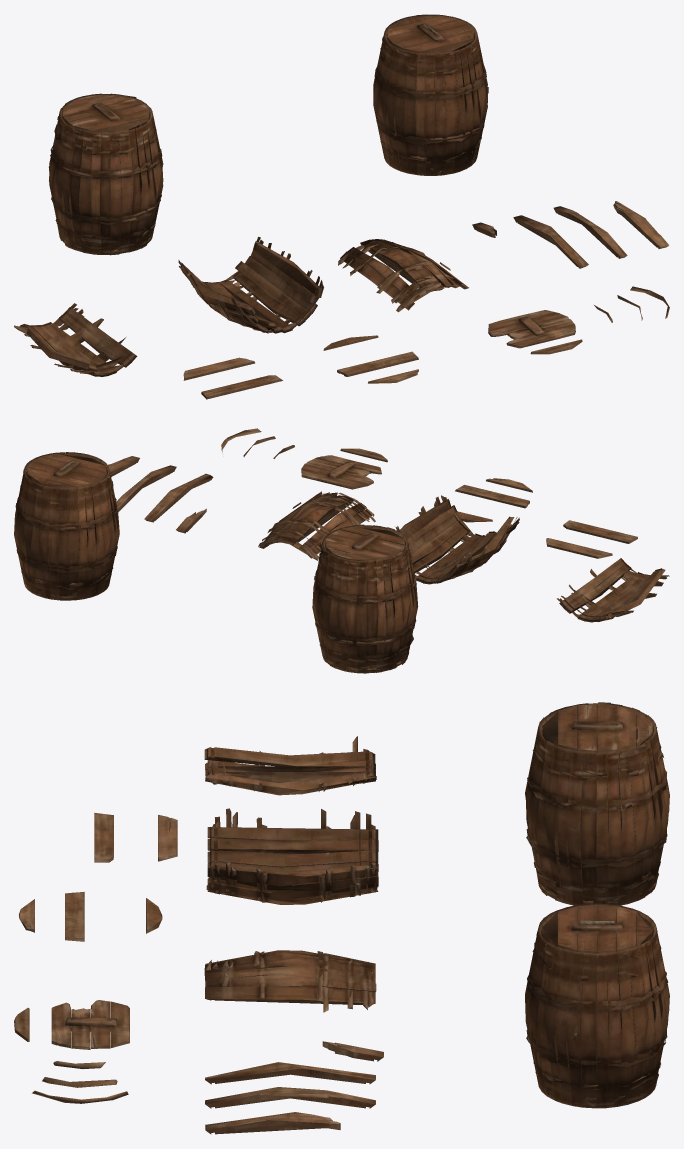
File: wooden_barrels_01.glb
The picture shows the model from 3 angles, top to bottom: view 1: azimuth 30°, elevation 25°; view 2: azimuth 150°, elevation 25°; view 3: azimuth 270°, elevation 25°; orthographic projection. The views are drawn at different scales.
Visible parts, largest first — view 1: wooden_barrels_01_barrel01, wooden_barrels_01_barrel02, wooden_barrels_01_piece01, wooden_barrels_01_piece03, wooden_barrels_01_piece02, wooden_barrels_01_piece08, wooden_barrels_01_piece04, wooden_barrels_01_piece05, wooden_barrels_01_piece06, wooden_barrels_01_piece11, wooden_barrels_01_piece14, wooden_barrels_01_piece13; view 2: wooden_barrels_01_barrel02, wooden_barrels_01_barrel01, wooden_barrels_01_piece01, wooden_barrels_01_piece03, wooden_barrels_01_piece02, wooden_barrels_01_piece08, wooden_barrels_01_piece04, wooden_barrels_01_piece14, wooden_barrels_01_piece05, wooden_barrels_01_piece11, wooden_barrels_01_piece13; view 3: wooden_barrels_01_barrel01, wooden_barrels_01_barrel02, wooden_barrels_01_piece01, wooden_barrels_01_piece03, wooden_barrels_01_piece02, wooden_barrels_01_piece08, wooden_barrels_01_piece05, wooden_barrels_01_piece04, wooden_barrels_01_piece06, wooden_barrels_01_piece11, wooden_barrels_01_piece14, wooden_barrels_01_piece13 (+1 smaller).
Boxes of the visible parts, <box> form: wooden_barrels_01_barrel01: <box>373,14,488,175</box>; wooden_barrels_01_barrel02: <box>48,93,163,255</box>; wooden_barrels_01_piece01: <box>178,236,323,333</box>; wooden_barrels_01_piece03: <box>338,239,468,312</box>; wooden_barrels_01_piece02: <box>14,303,137,376</box>; wooden_barrels_01_piece08: <box>488,310,575,348</box>; wooden_barrels_01_piece04: <box>513,215,588,268</box>; wooden_barrels_01_piece05: <box>553,206,627,258</box>; wooden_barrels_01_piece06: <box>613,201,668,248</box>; wooden_barrels_01_piece11: <box>337,351,418,376</box>; wooden_barrels_01_piece14: <box>201,375,282,399</box>; wooden_barrels_01_piece13: <box>183,357,254,380</box>; wooden_barrels_01_barrel02: <box>312,524,418,673</box>; wooden_barrels_01_barrel01: <box>14,452,119,600</box>; wooden_barrels_01_piece01: <box>395,495,519,584</box>; wooden_barrels_01_piece03: <box>258,491,375,560</box>; wooden_barrels_01_piece02: <box>556,558,669,622</box>; wooden_barrels_01_piece08: <box>301,455,381,489</box>; wooden_barrels_01_piece04: <box>144,473,213,522</box>; wooden_barrels_01_piece14: <box>563,520,637,543</box>; wooden_barrels_01_piece05: <box>116,465,176,512</box>; wooden_barrels_01_piece11: <box>455,485,529,508</box>; wooden_barrels_01_piece13: <box>546,538,612,558</box>; wooden_barrels_01_barrel01: <box>525,903,669,1108</box>; wooden_barrels_01_barrel02: <box>525,702,669,905</box>; wooden_barrels_01_piece01: <box>206,808,378,904</box>; wooden_barrels_01_piece03: <box>204,950,376,1012</box>; wooden_barrels_01_piece02: <box>204,736,376,795</box>; wooden_barrels_01_piece08: <box>51,1000,129,1049</box>; wooden_barrels_01_piece05: <box>205,1087,375,1108</box>; wooden_barrels_01_piece04: <box>205,1062,375,1084</box>; wooden_barrels_01_piece06: <box>205,1112,340,1134</box>; wooden_barrels_01_piece11: <box>65,891,84,941</box>; wooden_barrels_01_piece14: <box>94,812,113,862</box>; wooden_barrels_01_piece13: <box>158,815,177,861</box>.
Size of the model in its own units: 4.44 by 0.953 by 3.34.
Materials: 3 (3 with a texture image).
